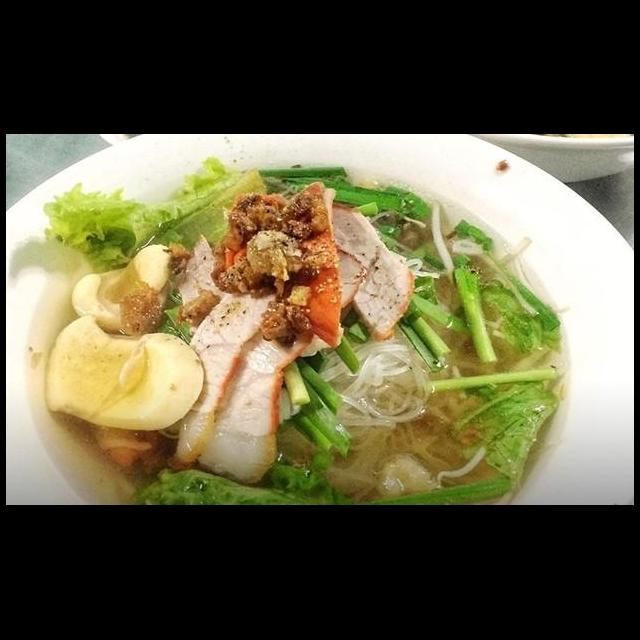banh hu tieu: (270, 318, 494, 490)
hu tieu: (54, 167, 576, 503)
thit heo: (165, 228, 317, 490), (165, 274, 284, 468), (305, 185, 419, 346)
